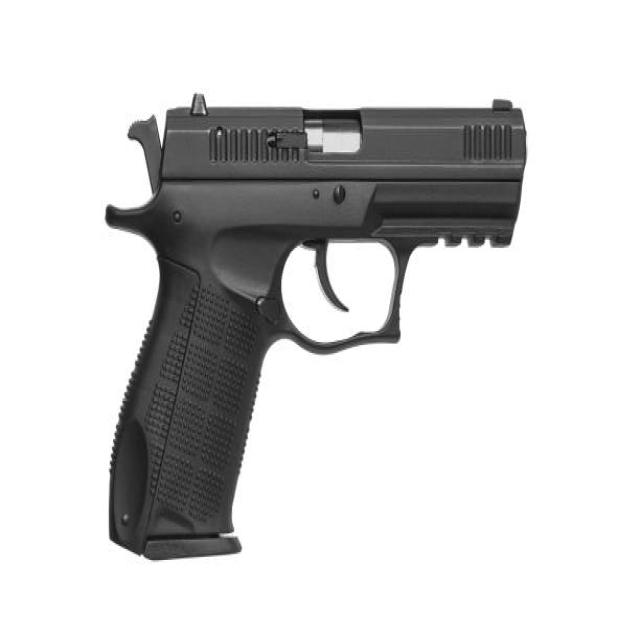pistol: (92, 86, 532, 577)
